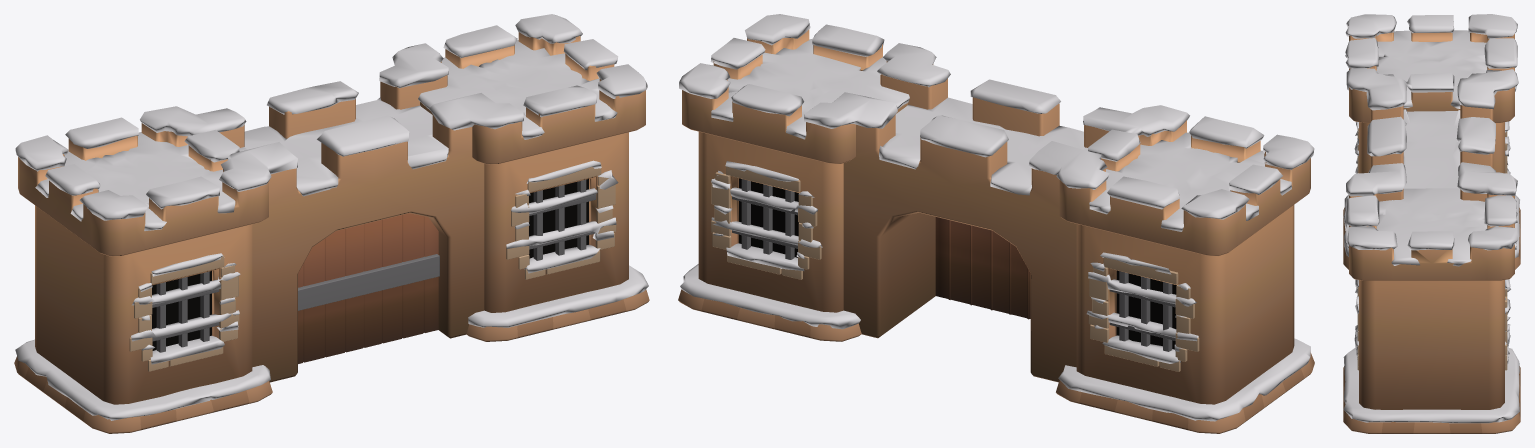
File: EntranceSnowy_2.fbx
3 renders of one model, left to right at view 1: azimuth 30°, elevation 25°; view 2: azimuth 150°, elevation 25°; view 3: azimuth 270°, elevation 25°, orthographic. The views are drawn at different scales.
Visible parts, largest first — view 1: EntranceSnowy_2, EntranceMainDoor_1.001; view 2: EntranceSnowy_2, EntranceMainDoor_1.001; view 3: EntranceSnowy_2.
Boxes of the visible parts, x1=… form: EntranceSnowy_2: x1=14, y1=14, x2=649, y2=433; EntranceMainDoor_1.001: x1=298, y1=213, x2=439, y2=363; EntranceSnowy_2: x1=678, y1=14, x2=1314, y2=433; EntranceMainDoor_1.001: x1=935, y1=217, x2=1030, y2=319; EntranceSnowy_2: x1=1343, y1=14, x2=1520, y2=433.
Bounding box in the file's own units: 871 × 334 × 281.
